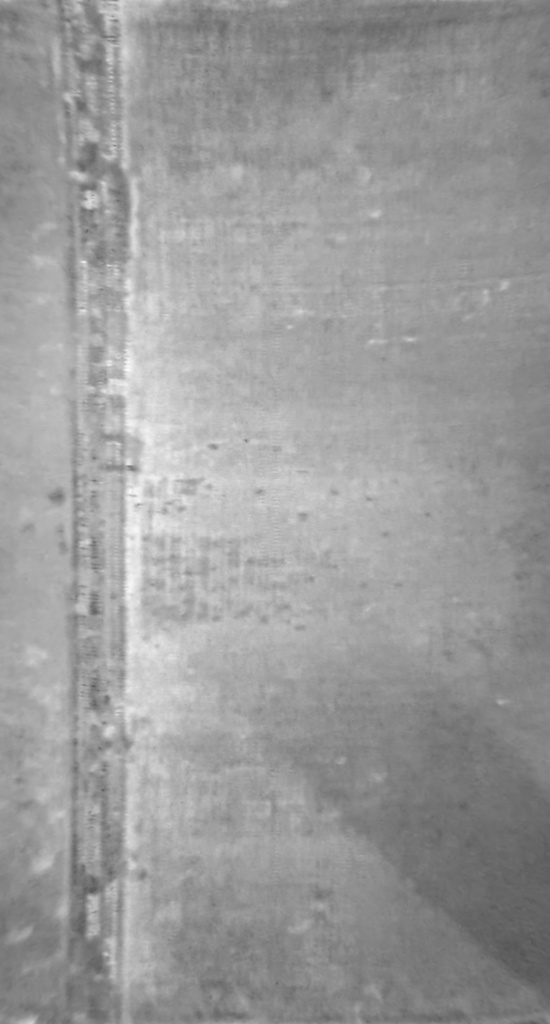splice: (43, 2, 140, 1024)
